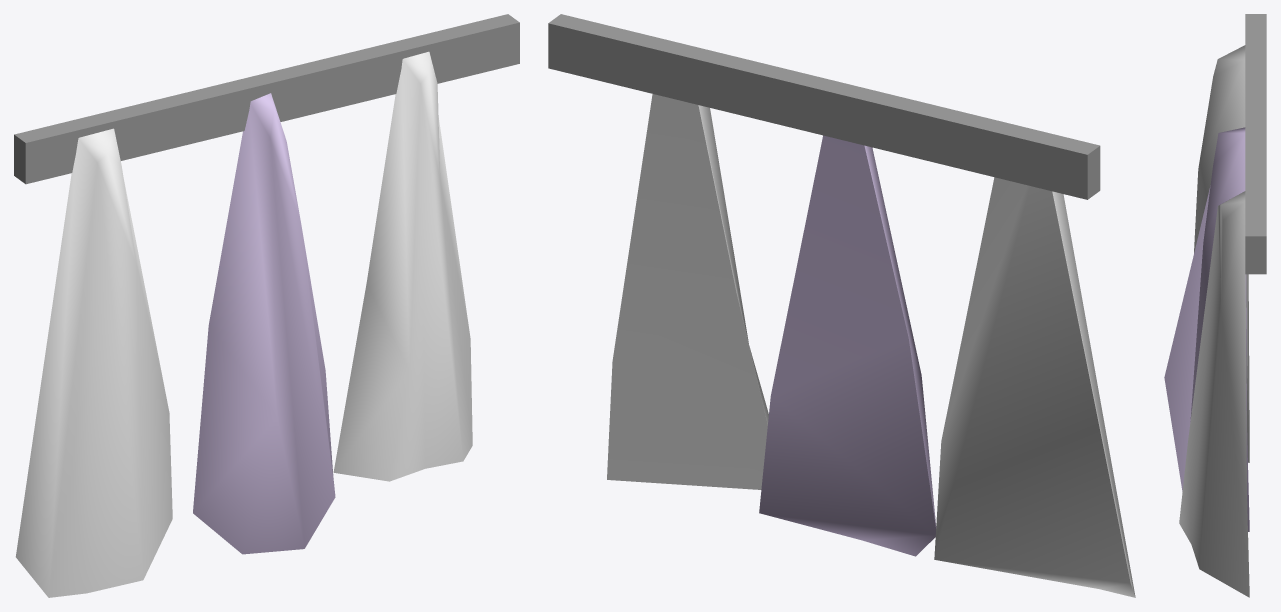
The model's file is bathroom_item_031.glb.
The picture shows the model from 3 angles, left to right: view 1: azimuth 30°, elevation 25°; view 2: azimuth 150°, elevation 25°; view 3: azimuth 270°, elevation 25°; orthographic projection. The views are drawn at different scales.
Visible parts, largest first — view 1: bathroom_item_031; view 2: bathroom_item_031; view 3: bathroom_item_031.
Part boxes in pixels (x1,y1,x2,y2): bathroom_item_031: (14,14,519,597); bathroom_item_031: (548,14,1135,597); bathroom_item_031: (1164,14,1266,597).
Bounding box in the file's own units: 1.16 × 0.9584 × 0.2168.
1 material, 1 textured.
